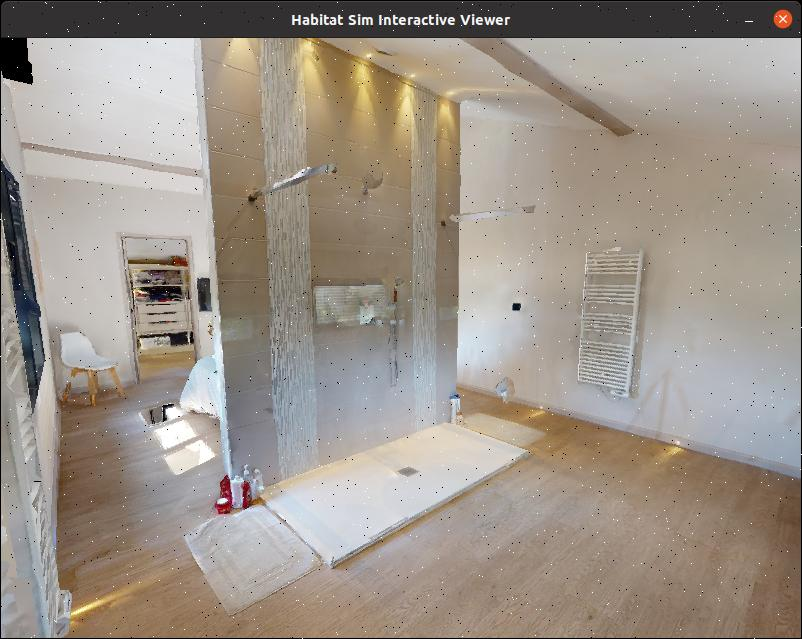chair: (55, 317, 138, 431)
door-frame: (115, 229, 205, 402)
shower: (217, 103, 528, 504)
